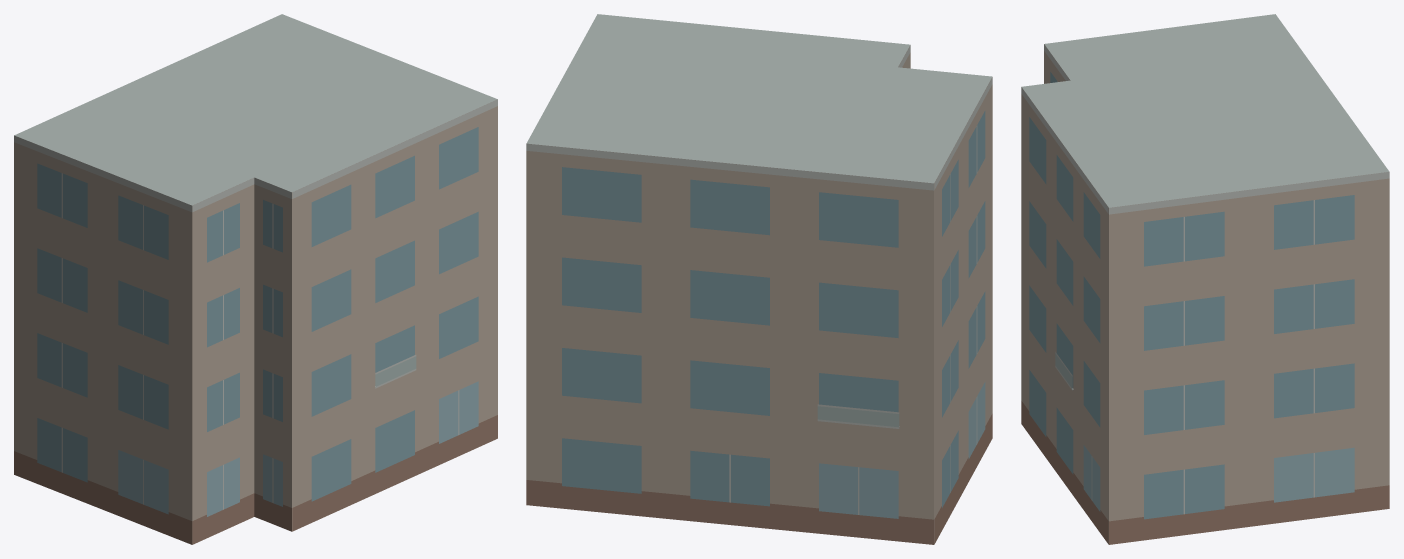
The model's file is residential-d916dd0f-615d-4e67-9de9-504fff1a8765.glb.
The picture shows the model from 3 angles, left to right: view 1: azimuth 30°, elevation 25°; view 2: azimuth 150°, elevation 25°; view 3: azimuth 270°, elevation 25°; orthographic projection. The views are drawn at different scales.
Visible parts, largest first — view 1: residential-d916dd0f-615d-4e67-9de9-504fff1a8765.tmp; view 2: residential-d916dd0f-615d-4e67-9de9-504fff1a8765.tmp; view 3: residential-d916dd0f-615d-4e67-9de9-504fff1a8765.tmp.
Boxes of the visible parts, box(x1,y1,x2,y2) form: residential-d916dd0f-615d-4e67-9de9-504fff1a8765.tmp: box(14, 14, 497, 544); residential-d916dd0f-615d-4e67-9de9-504fff1a8765.tmp: box(526, 14, 992, 544); residential-d916dd0f-615d-4e67-9de9-504fff1a8765.tmp: box(1021, 14, 1389, 544).
Size of the model in its own units: 15.06 by 12.2 by 12.09.
